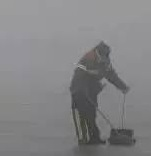person: (67, 40, 130, 147)
